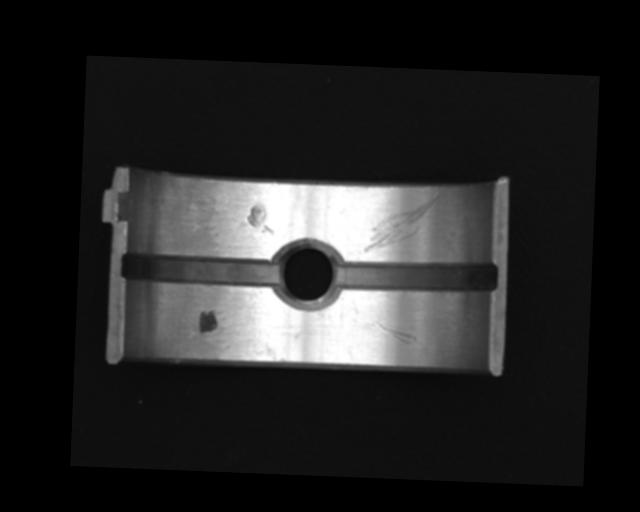blot: (198, 309, 218, 335)
bruise: (246, 204, 275, 235)
gap: (334, 255, 499, 296), (121, 253, 280, 288)
hole: (270, 237, 342, 310)
nick: (363, 190, 440, 255), (365, 318, 417, 346)
